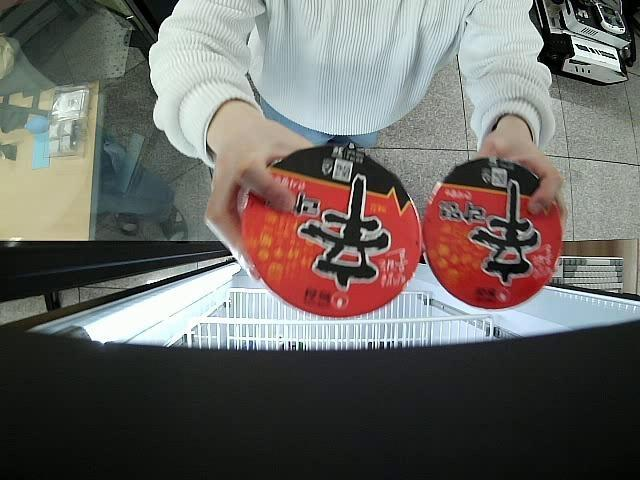01_ShinRamen_L: (238, 142, 422, 319), (423, 156, 564, 310)
